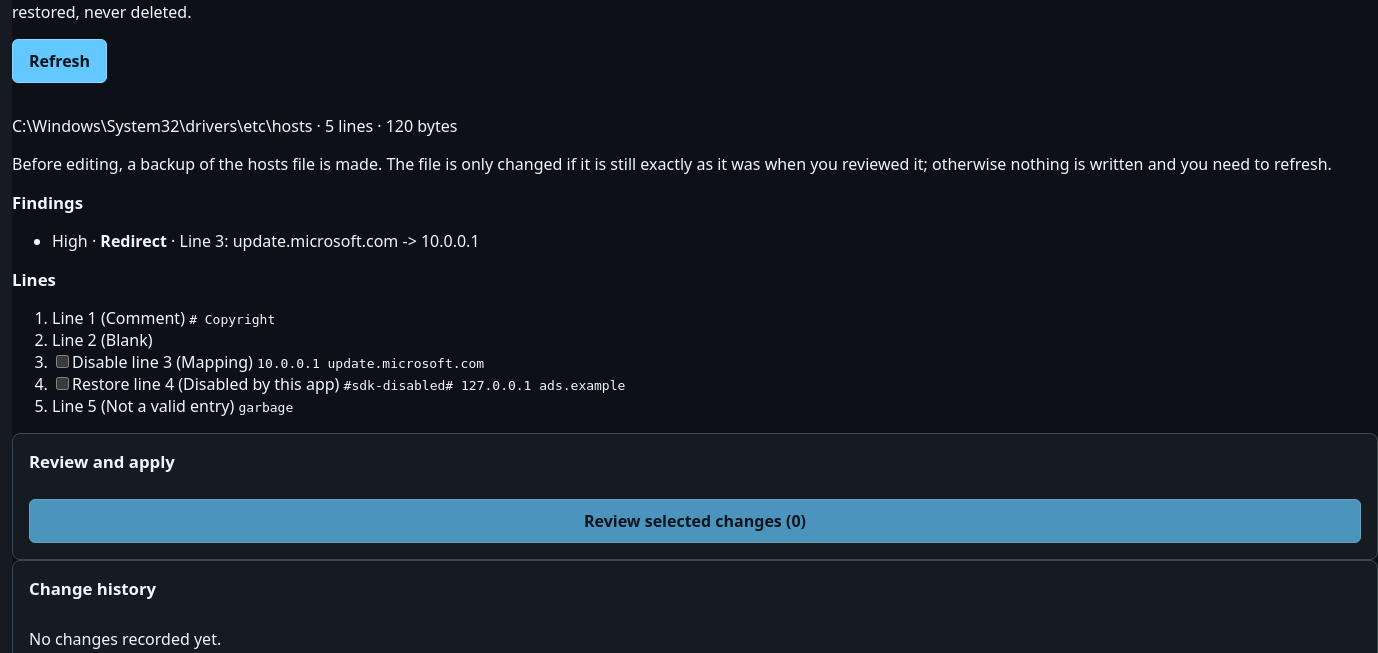
Test: one selected line sends exactly one editHosts change; nothing is confirmed early
This screenshot has width=1378, height=653.
Click the checkbox labelled "Disable line 3". click: (62, 362)
box: [56,355,69,368]
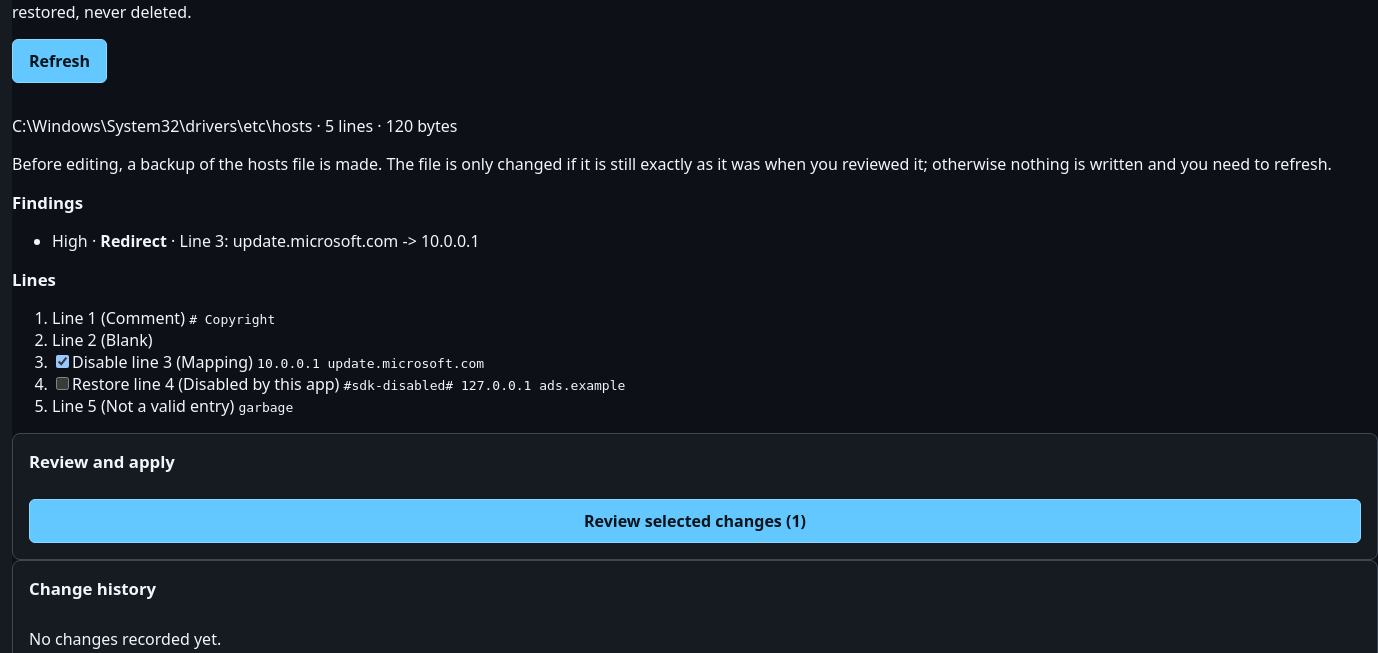
Click the button "Review selected changes (1)". click: (695, 521)
box: [29,499,1361,543]
(page scrolled)
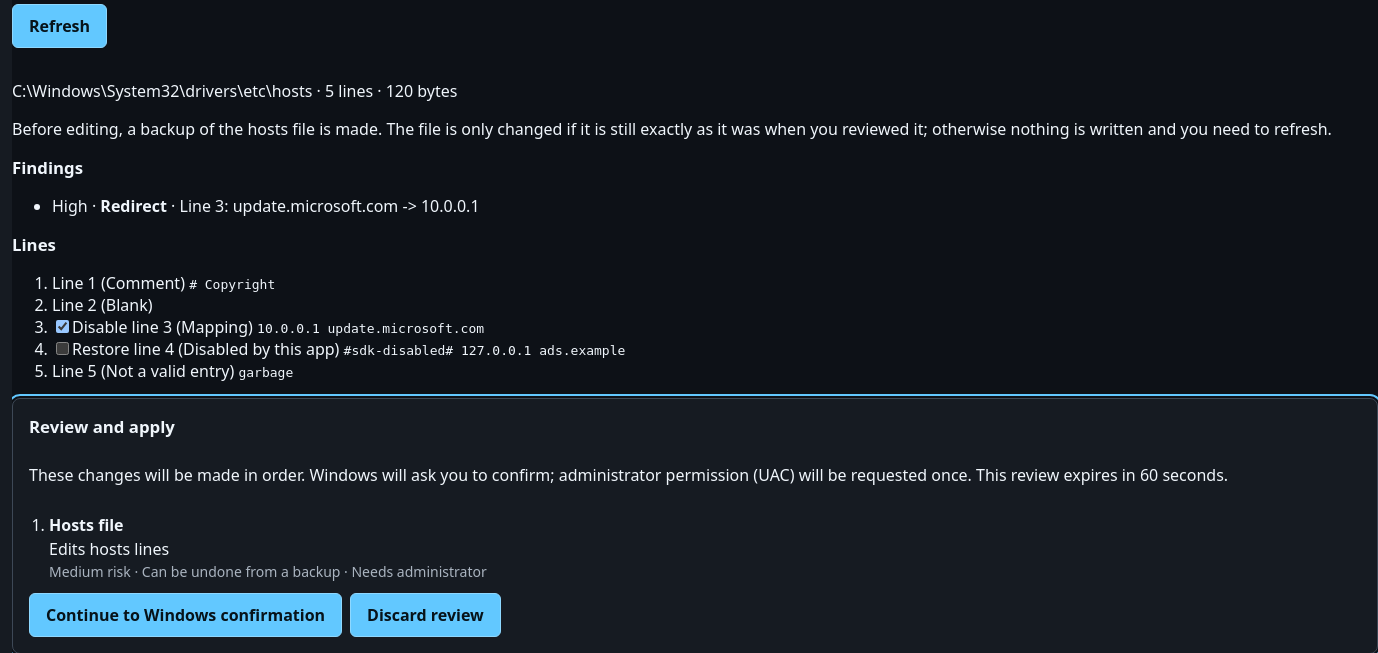
Check: the button "Continue to Windows confirmation" is shown, box [29,593,342,637]
